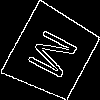M: (26, 27, 87, 85)
